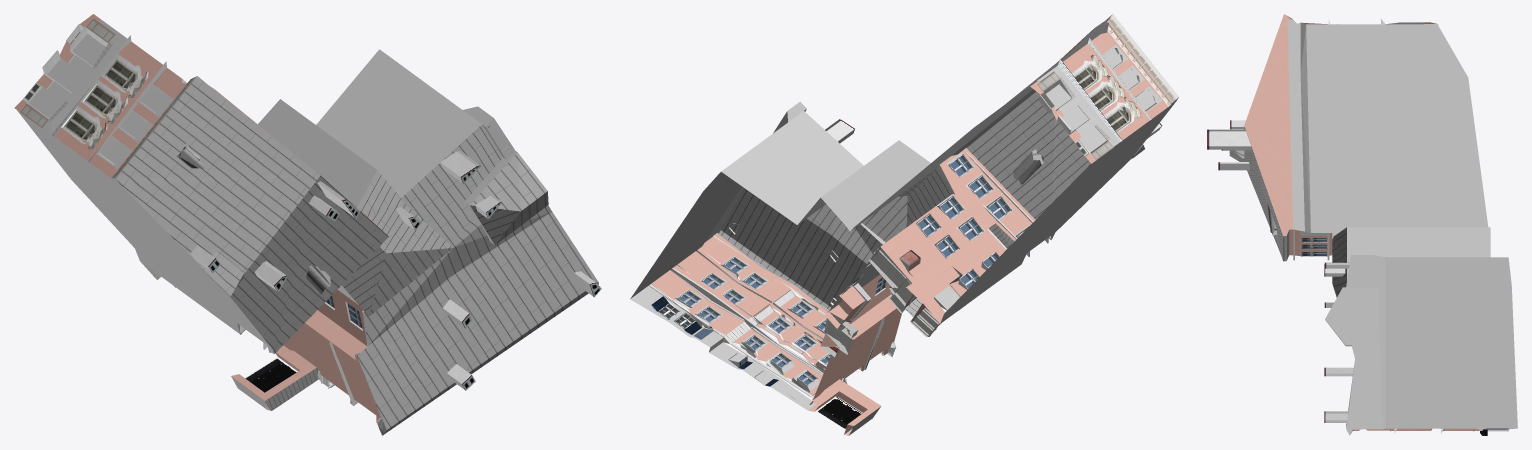
The model's file is Pikk_22-origo.obj.
The picture shows the model from 3 angles, left to right: view 1: azimuth 30°, elevation 25°; view 2: azimuth 150°, elevation 25°; view 3: azimuth 270°, elevation 25°; orthographic projection. The views are drawn at different scales.
Parts seen in each view (by area): view 1: Pikk_22; view 2: Pikk_22; view 3: Pikk_22.
Boxes of the visible parts, bbox=[...] form: Pikk_22: bbox=[14, 14, 601, 435]; Pikk_22: bbox=[630, 14, 1178, 435]; Pikk_22: bbox=[1207, 14, 1517, 435].
Size of the model in its own units: 40 by 33.5 by 27.56.
